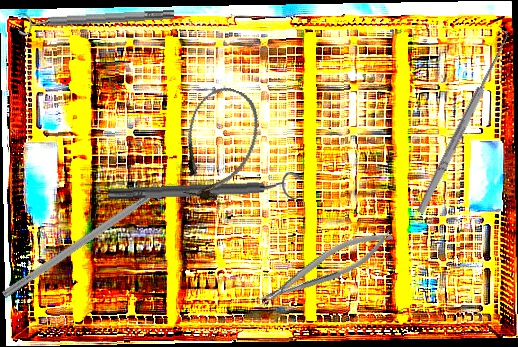Cannula: (166, 79, 270, 210)
Chopper: (1, 173, 187, 309)
Fixation Ring: (107, 170, 302, 209), (17, 2, 175, 37)
Hook Surgical: (408, 26, 514, 216)
Needle Holder: (249, 221, 400, 314)
